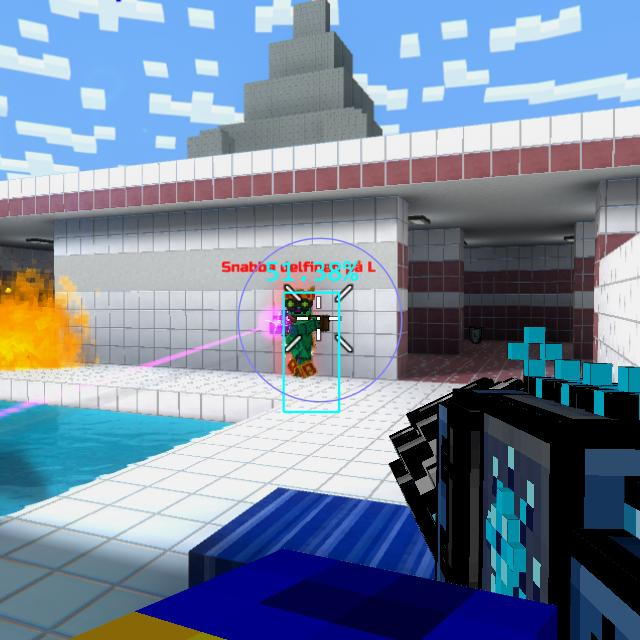Enemy: (269, 289, 330, 379)
